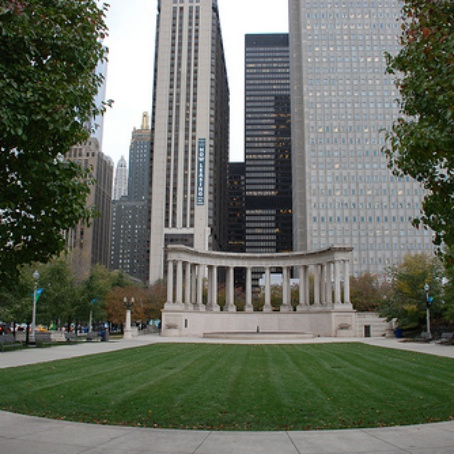building: (297, 1, 450, 283), (149, 1, 224, 251), (240, 29, 296, 258), (110, 124, 154, 283)
grass: (16, 340, 454, 426)
tree: (1, 1, 103, 274), (389, 1, 454, 248)
